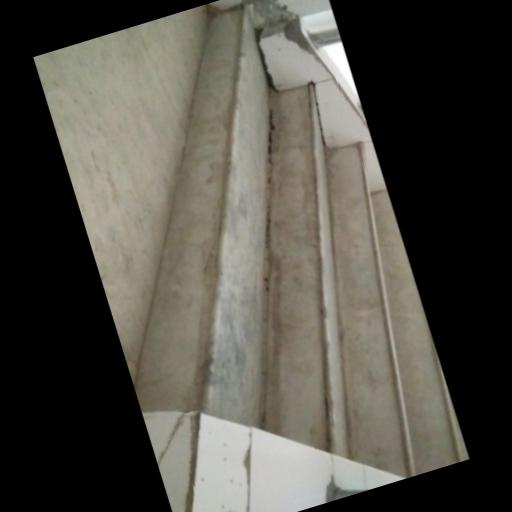stairs: (135, 12, 458, 476)
